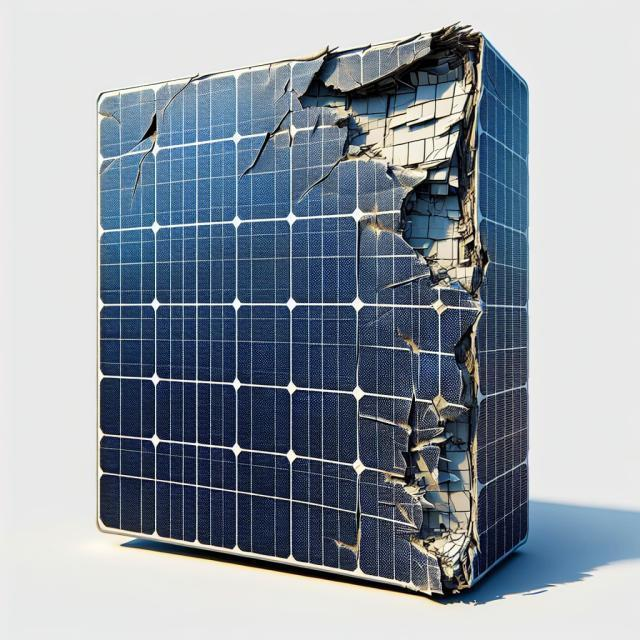Anomaly Solar Panel: (90, 24, 481, 586)
Structural Damage: (283, 22, 481, 590), (104, 104, 165, 212), (235, 104, 291, 183), (294, 154, 346, 206), (155, 73, 194, 121), (329, 523, 370, 560), (380, 271, 425, 292), (267, 76, 294, 107), (354, 484, 361, 533)
